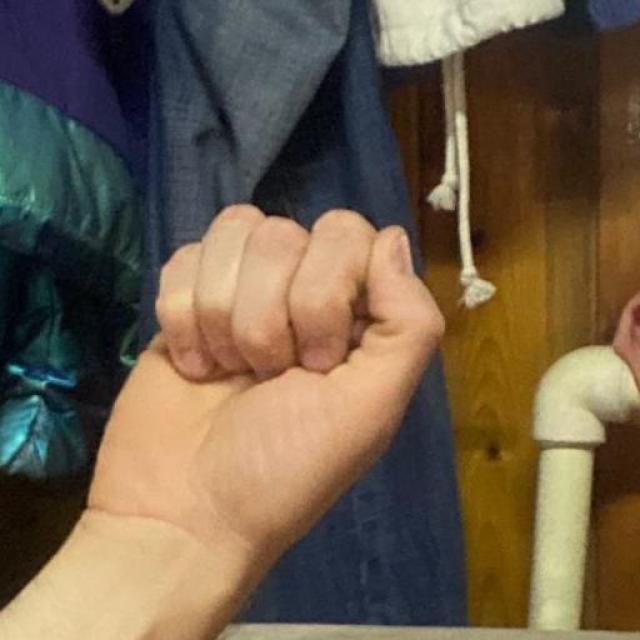hand: (85, 201, 446, 560)
